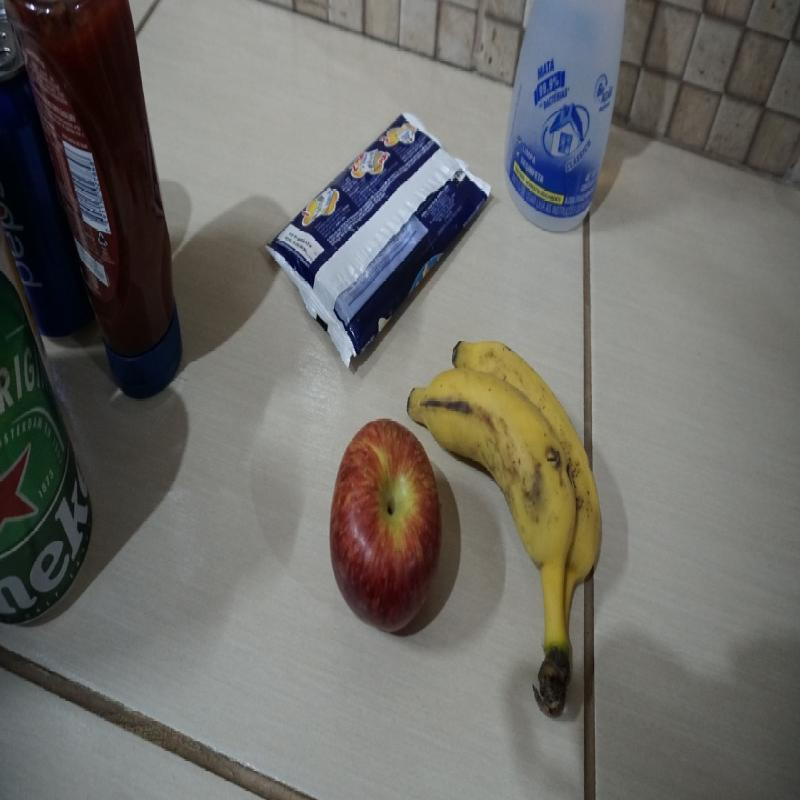Alcohol Bottle: (504, 0, 634, 232)
Apple: (330, 418, 442, 630)
Banana: (407, 339, 602, 727)
Beer can: (0, 270, 96, 630)
Ketchup: (95, 2, 183, 396)
Popcorn: (267, 115, 492, 366)
Soda can: (0, 0, 92, 329)
